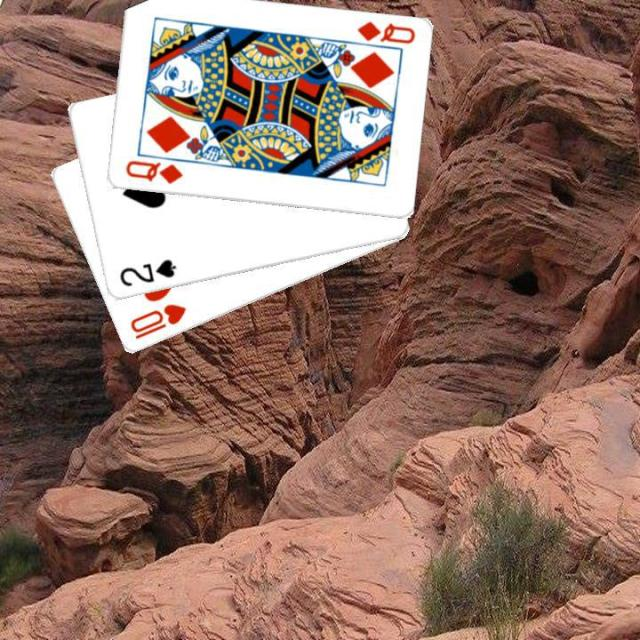10H: (126, 300, 188, 342)
2S: (116, 256, 178, 289)
QD: (121, 156, 184, 186), (352, 17, 417, 46)
